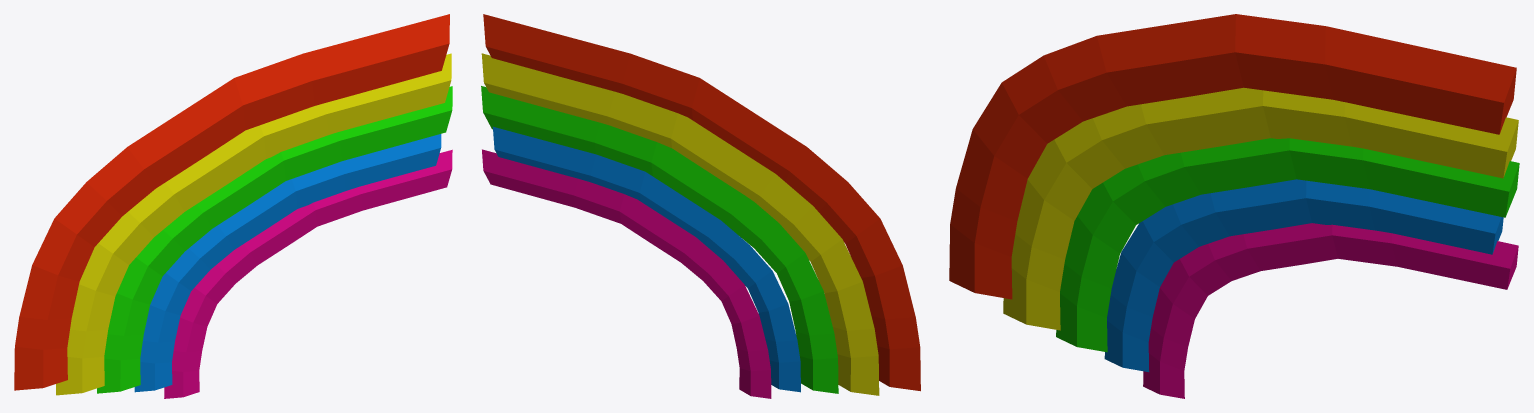
The model's file is duha.fbx.
The picture shows the model from 3 angles, left to right: view 1: azimuth 30°, elevation 25°; view 2: azimuth 150°, elevation 25°; view 3: azimuth 330°, elevation 25°; orthographic projection. The views are drawn at different scales.
Visible parts, largest first — view 1: Cube.005, Cube.004, Cube, Cube.001, Cube.002; view 2: Cube.005, Cube.004, Cube, Cube.001, Cube.002; view 3: Cube.005, Cube.004, Cube, Cube.001, Cube.002.
Part boxes in pixels (x1,y1,x2,y2): Cube.005: (14, 14, 449, 390); Cube.004: (56, 53, 451, 395); Cube: (97, 86, 452, 393); Cube.001: (134, 134, 441, 392); Cube.002: (164, 149, 452, 398); Cube.005: (483, 14, 920, 391); Cube.004: (481, 53, 879, 395); Cube: (481, 86, 838, 393); Cube.001: (493, 126, 800, 392); Cube.002: (482, 149, 771, 398); Cube.005: (949, 14, 1516, 299); Cube.004: (1003, 87, 1518, 330); Cube: (1056, 138, 1519, 352); Cube.001: (1104, 179, 1503, 372); Cube.002: (1143, 223, 1518, 398).
Bounding box in the file's own units: 2961 × 2029 × 99.33.
